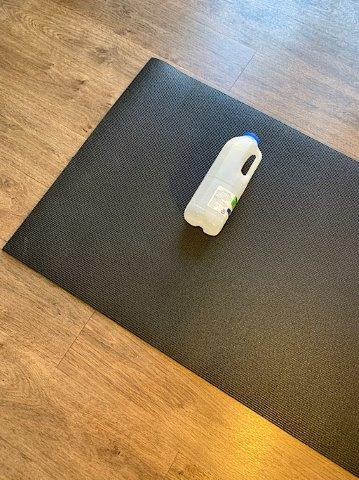botolplastik: (184, 132, 262, 235)
